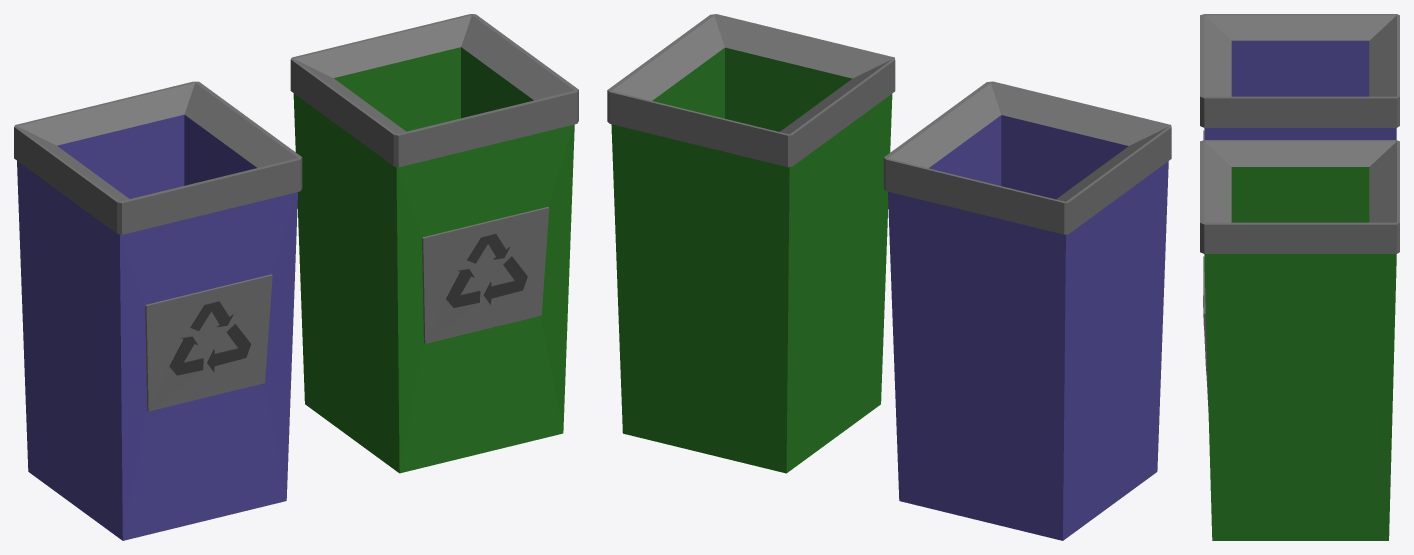
Rendered from recycle bin.fbx.
3 views of the same model, side by side, from view 1: azimuth 30°, elevation 25°; view 2: azimuth 150°, elevation 25°; view 3: azimuth 270°, elevation 25° (orthographic). The views are drawn at different scales.
Parts seen in each view (by area): view 1: Cube.001, Cube; view 2: Cube.001, Cube; view 3: Cube, Cube.001.
Boxes of the visible parts, x1=… form: Cube.001: x1=14, y1=81, x2=302, y2=540; Cube: x1=290, y1=14, x2=578, y2=473; Cube.001: x1=883, y1=81, x2=1171, y2=540; Cube: x1=607, y1=14, x2=895, y2=473; Cube: x1=1200, y1=140, x2=1399, y2=540; Cube.001: x1=1200, y1=14, x2=1399, y2=140.
Size of the model in its own units: 141 by 100 by 56.53.
